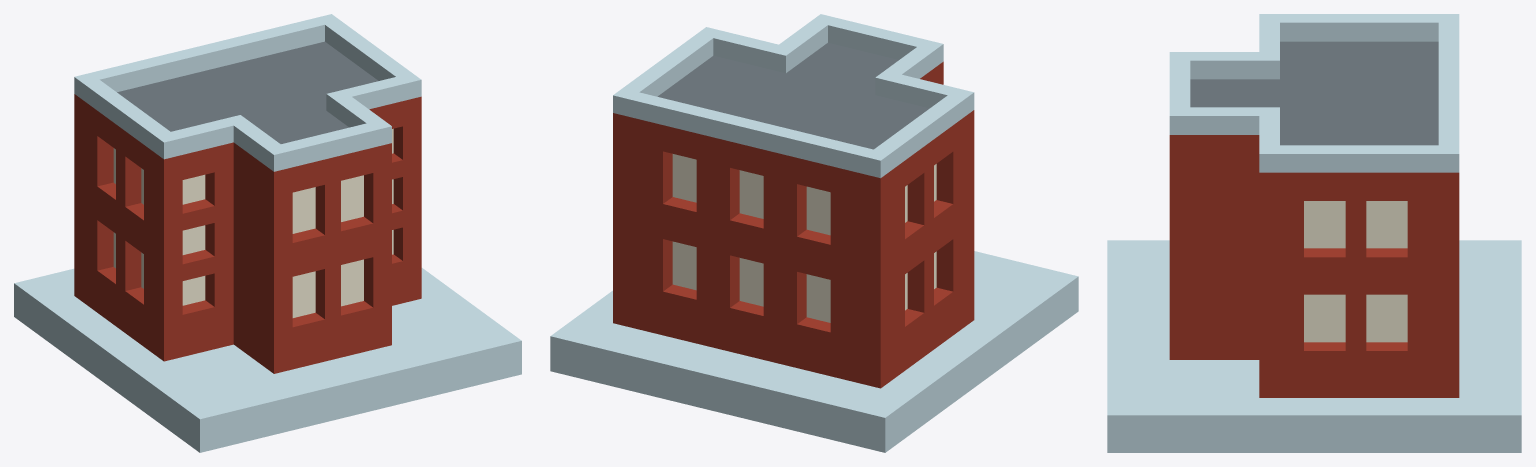
The model's file is Building_12_Base (Red).obj.
3 renders of one model, left to right at view 1: azimuth 30°, elevation 25°; view 2: azimuth 150°, elevation 25°; view 3: azimuth 270°, elevation 25°, orthographic. The views are drawn at different scales.
Visible parts, largest first — view 1: Building_12_Base_(Red); view 2: Building_12_Base_(Red); view 3: Building_12_Base_(Red).
Part boxes in pixels (x1,y1,x2,y2): Building_12_Base_(Red): (14,14,521,452); Building_12_Base_(Red): (550,14,1078,452); Building_12_Base_(Red): (1107,14,1521,452).
Size of the model in its own units: 2 by 1.5 by 2.
